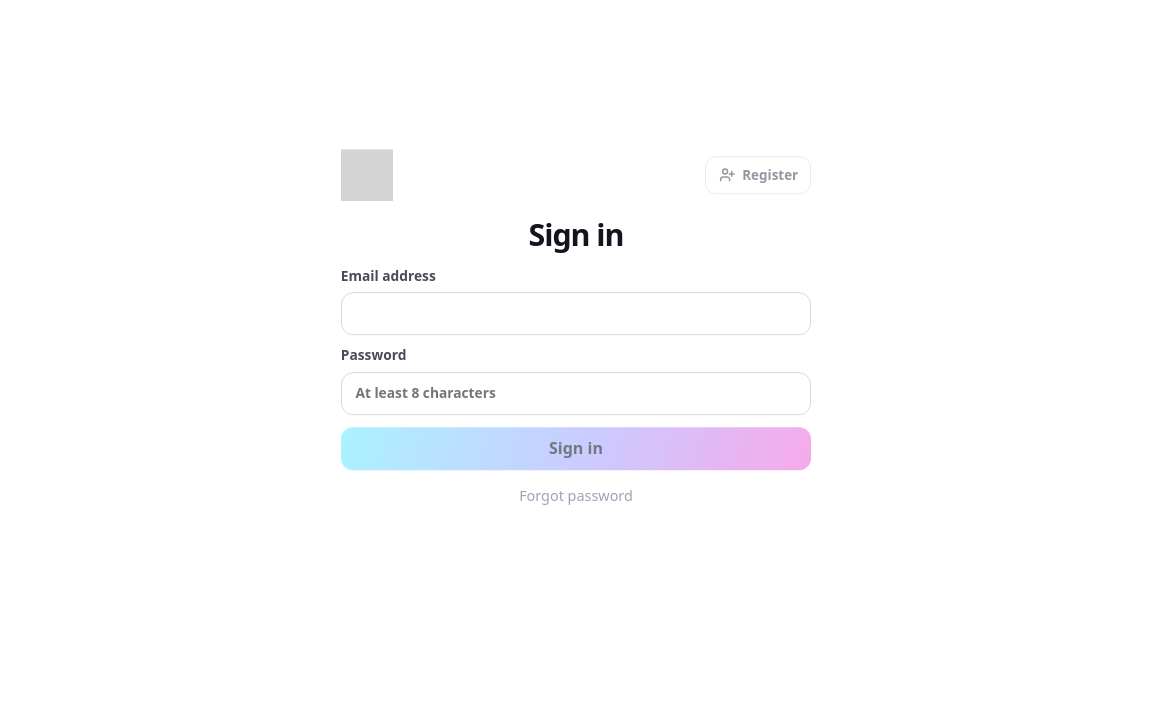
Test case: public website account authentication › replaces provider failures with the public English account error
The image size is (1152, 720).
Type "pilot@example.com" into the field labelled "Email address" at (576, 314), box [341,292,811,336]
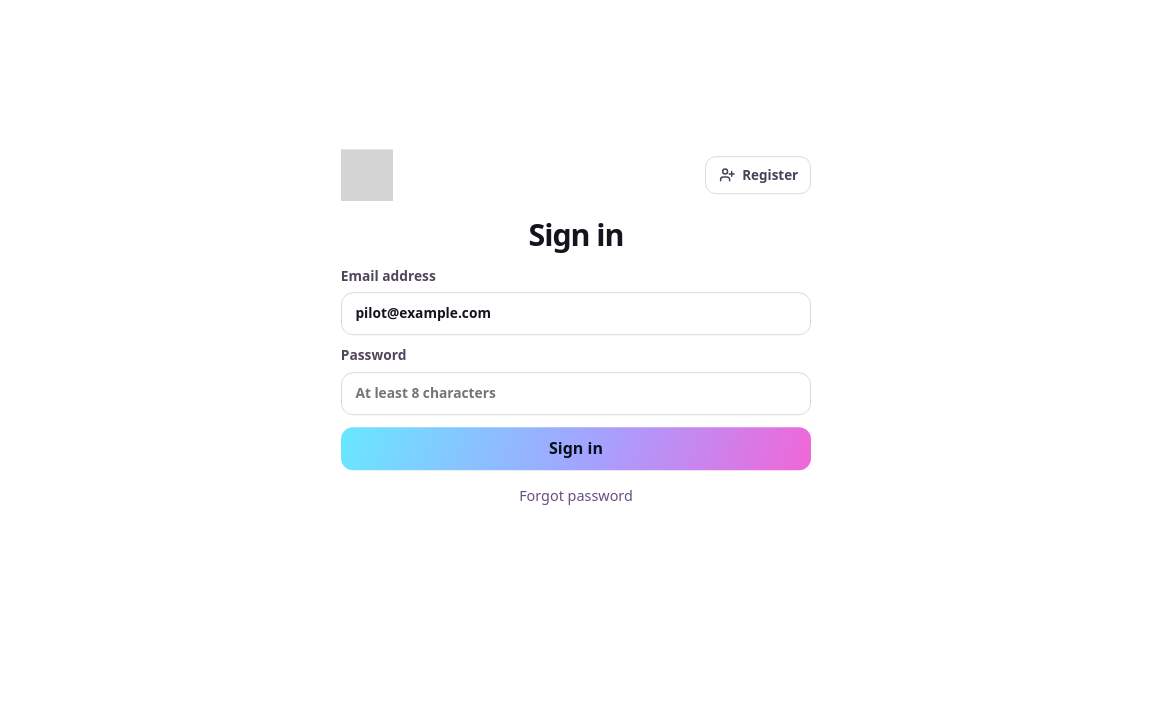
Type "wrong-password" into the password field labelled "Password" at (576, 393), box [341,372,811,415]
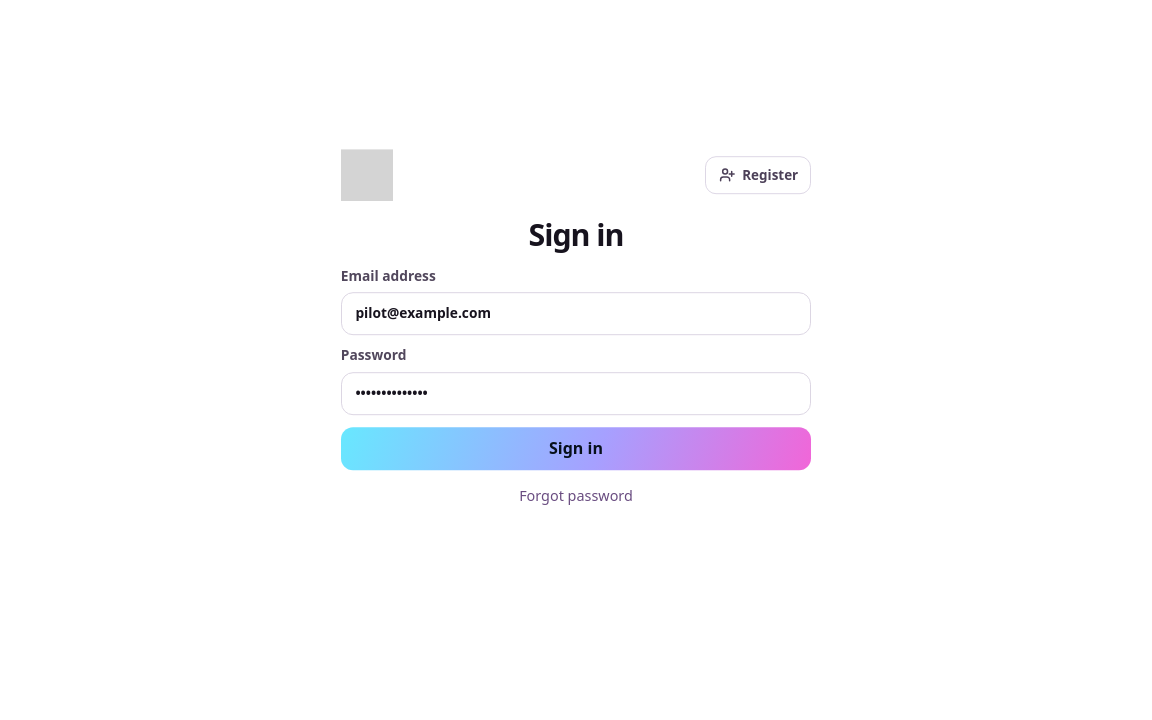
Click the button "Sign in" at (576, 448), box [341,427,811,470]
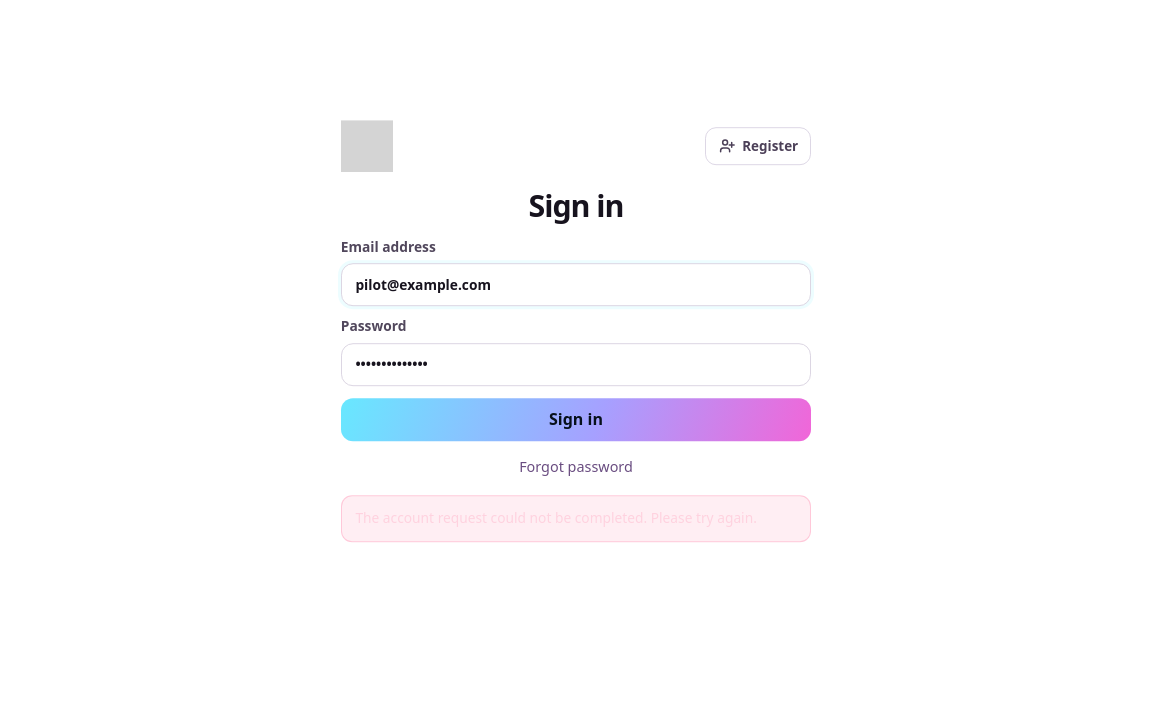
Expected: the dialog "Sign in" does not show "Invalid login credentials", [316,103,836,560]
Now the message reads "The account request could not be completed. Please try again.", box [355,508,757,527]
